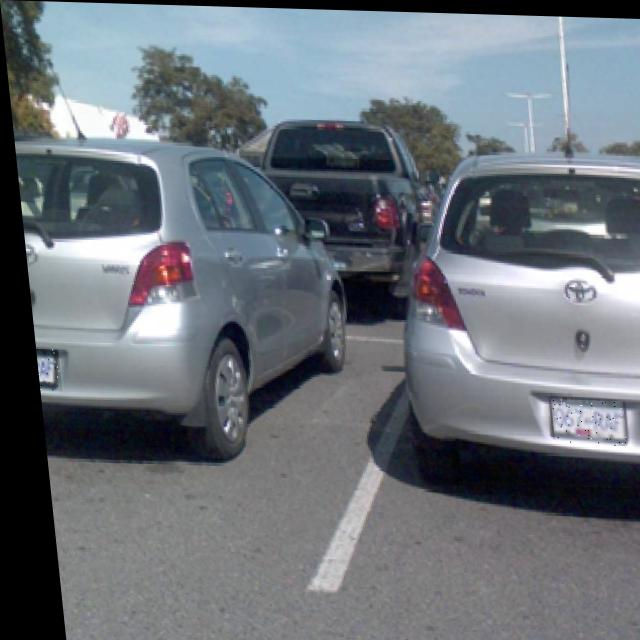license_plate: (542, 396, 618, 443), (28, 349, 54, 392)
